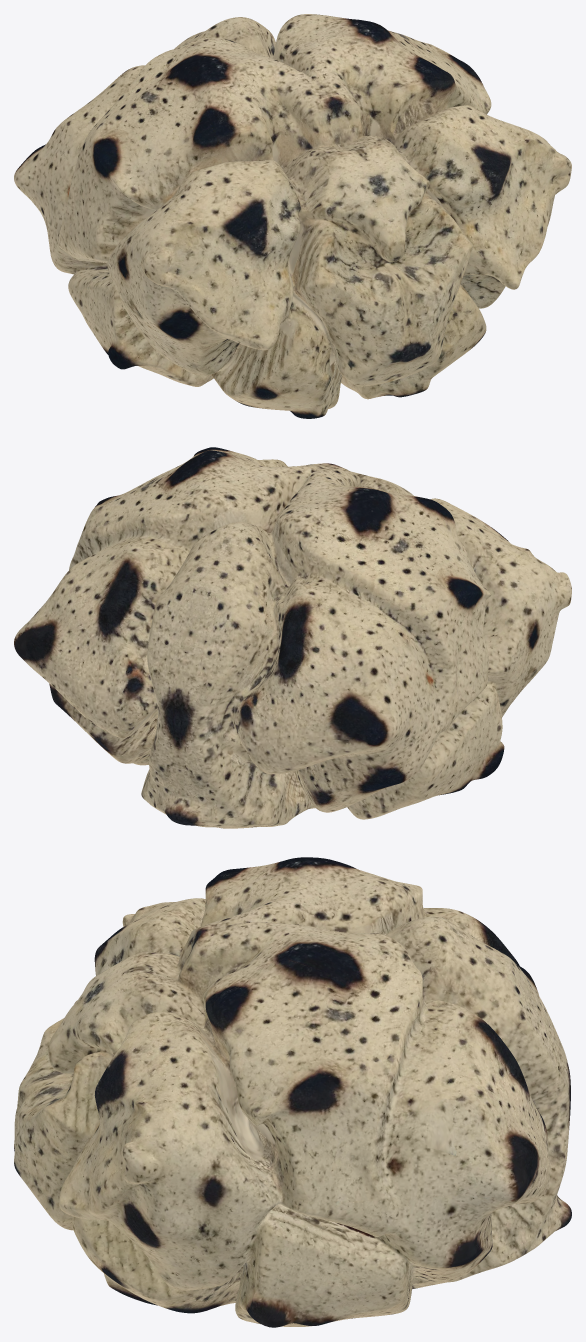
The model's file is huba-opt.glb.
3 renders of one model, top to bottom at view 1: azimuth 30°, elevation 25°; view 2: azimuth 150°, elevation 25°; view 3: azimuth 270°, elevation 25°, orthographic. The views are drawn at different scales.
Bounding box in the file's own units: 1.9 × 1.36 × 1.83.
Materials: 1 (1 with a texture image).
